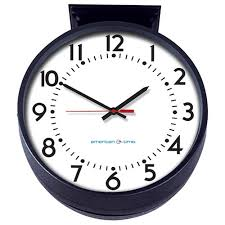alarm_clock: (19, 1, 208, 217)
